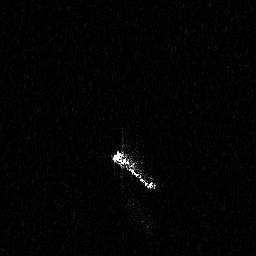ship: (110, 145, 161, 191)
